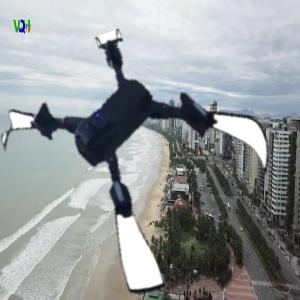drone: (10, 30, 272, 292)
